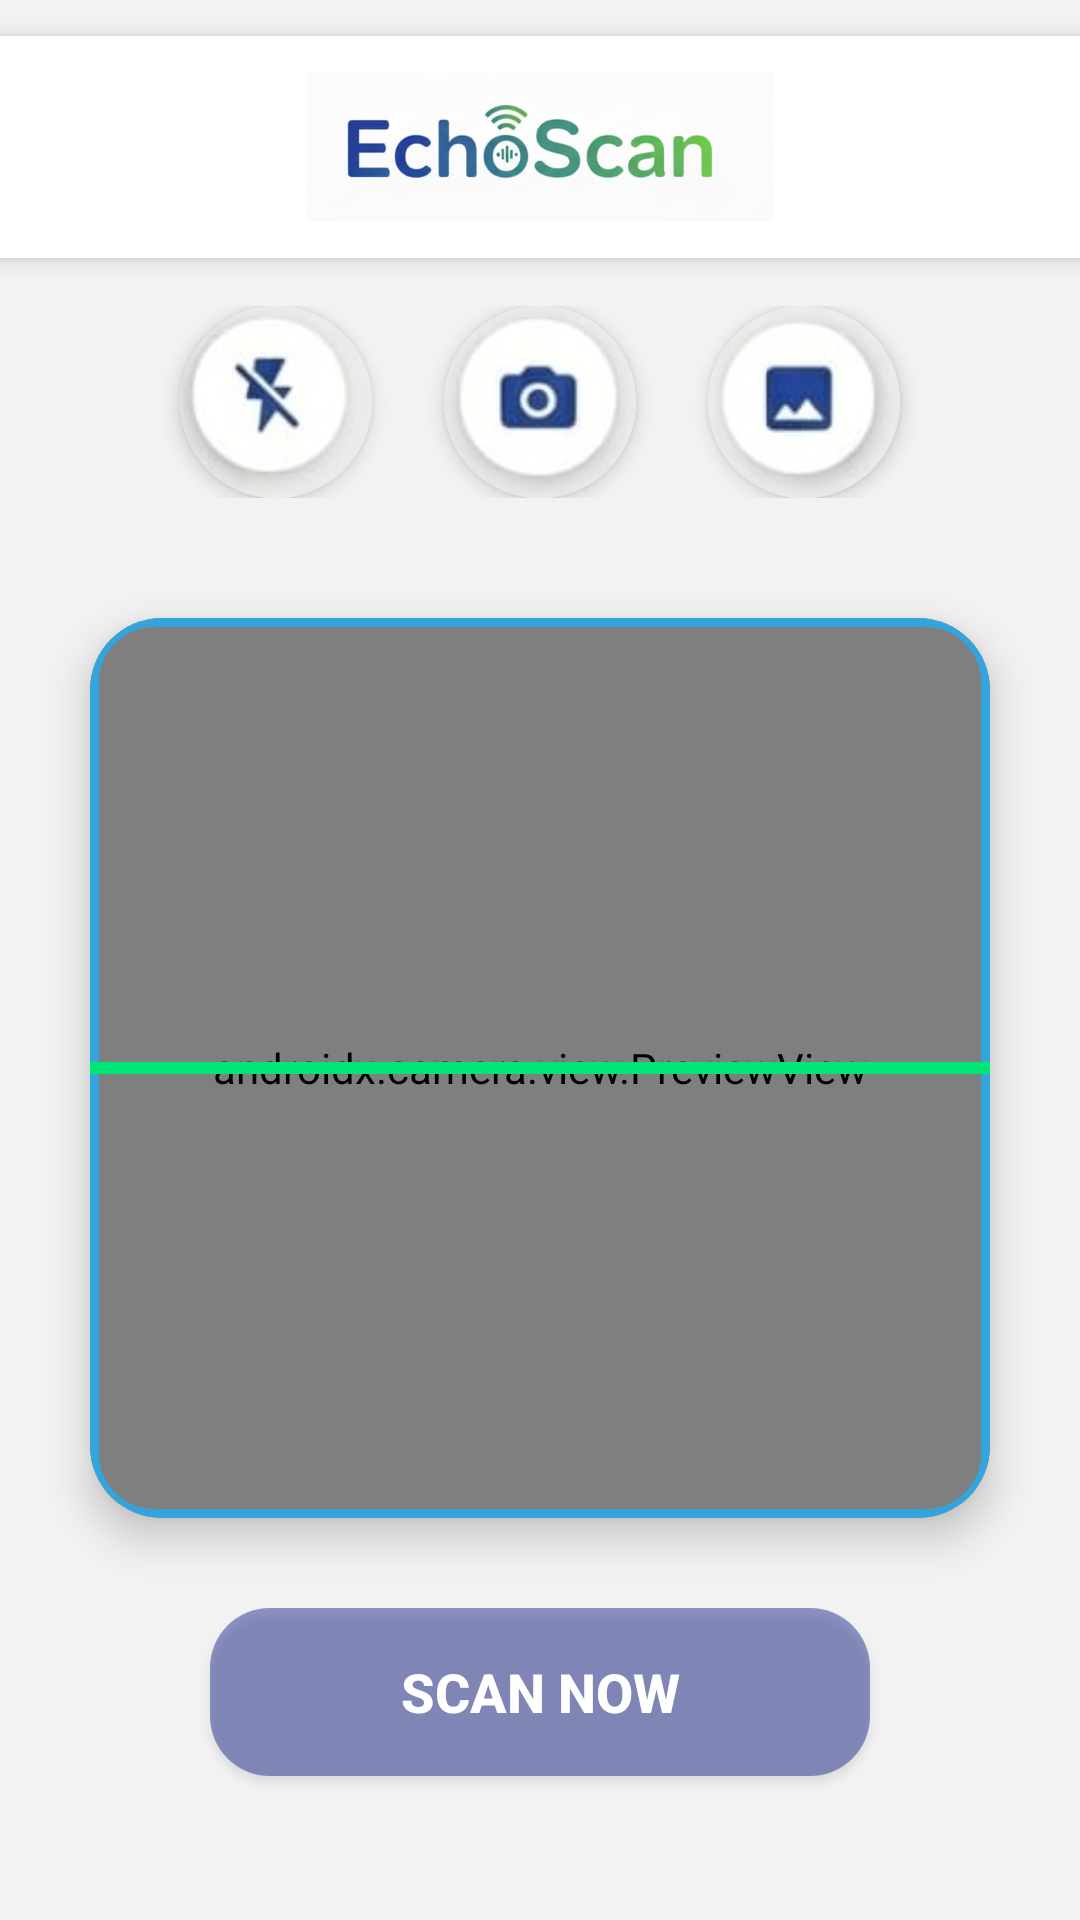

Point at icon controls on the screen. Image size 1080px×1920px, points as [x,y].
flash: [276,402]
gallery: [804,402]
